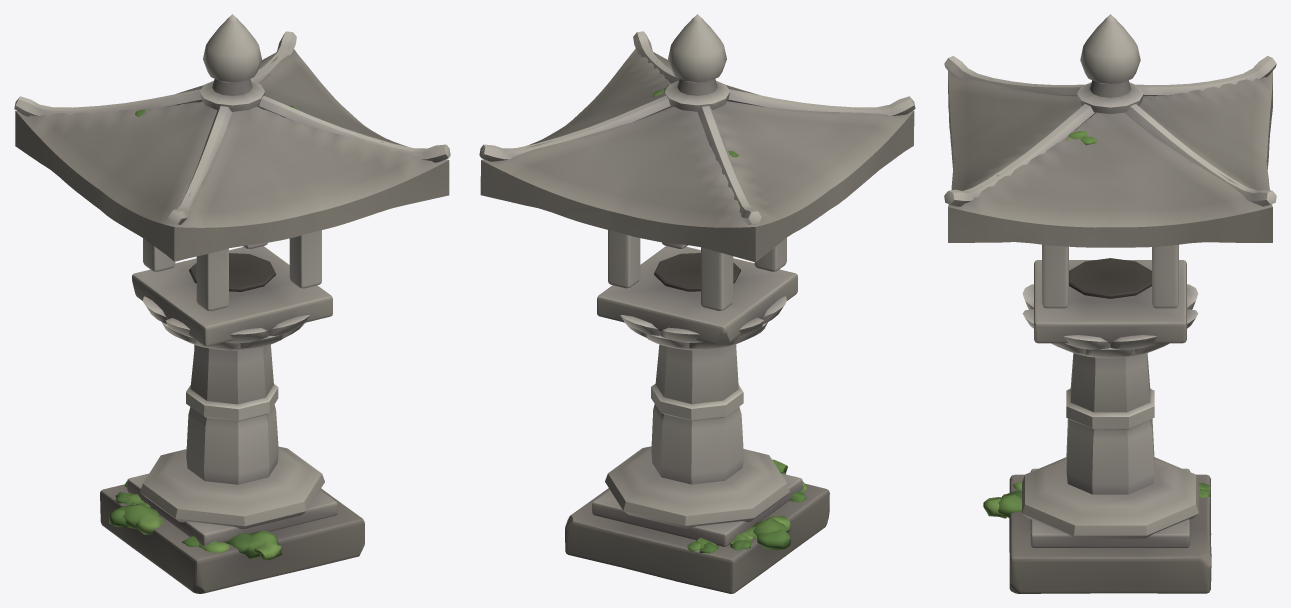
The model's file is pr_lantern.glb.
3 views of the same model, side by side, from view 1: azimuth 30°, elevation 25°; view 2: azimuth 150°, elevation 25°; view 3: azimuth 270°, elevation 25° (orthographic). The views are drawn at different scales.
Parts seen in each view (by area): view 1: PR_lantern__body; view 2: PR_lantern__body; view 3: PR_lantern__body.
Boxes of the visible parts, x1,y1,x2,y2 form: PR_lantern__body: [14, 14, 450, 593]; PR_lantern__body: [479, 14, 915, 593]; PR_lantern__body: [944, 14, 1276, 593].
Bounding box in the file's own units: 2.09 × 3.73 × 2.09.
